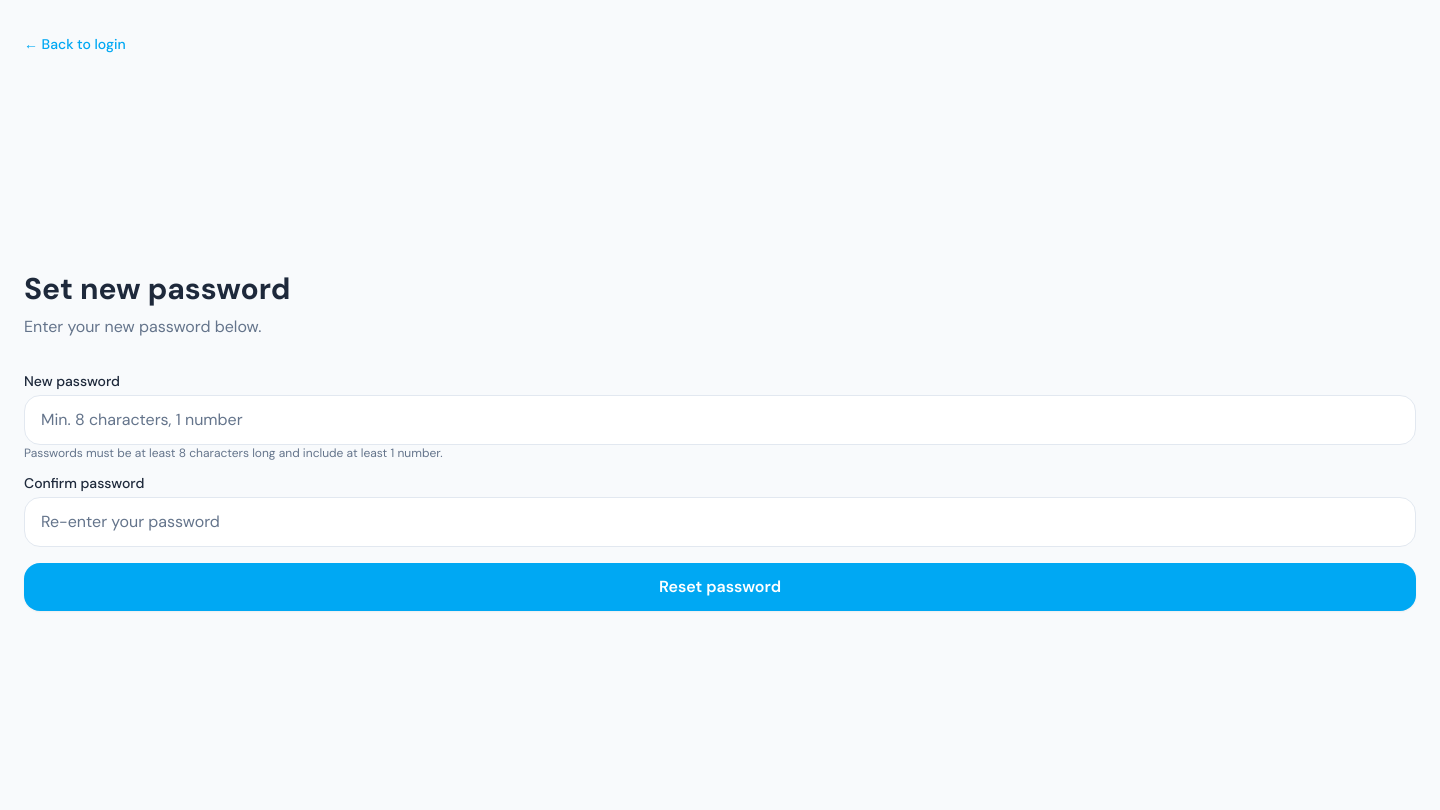
Test case: ResetPasswordPage › shows error when password has no number
Type "NoNumberPass" into the password field with test id "password-input" at (720, 420), box [24,395,1416,445]
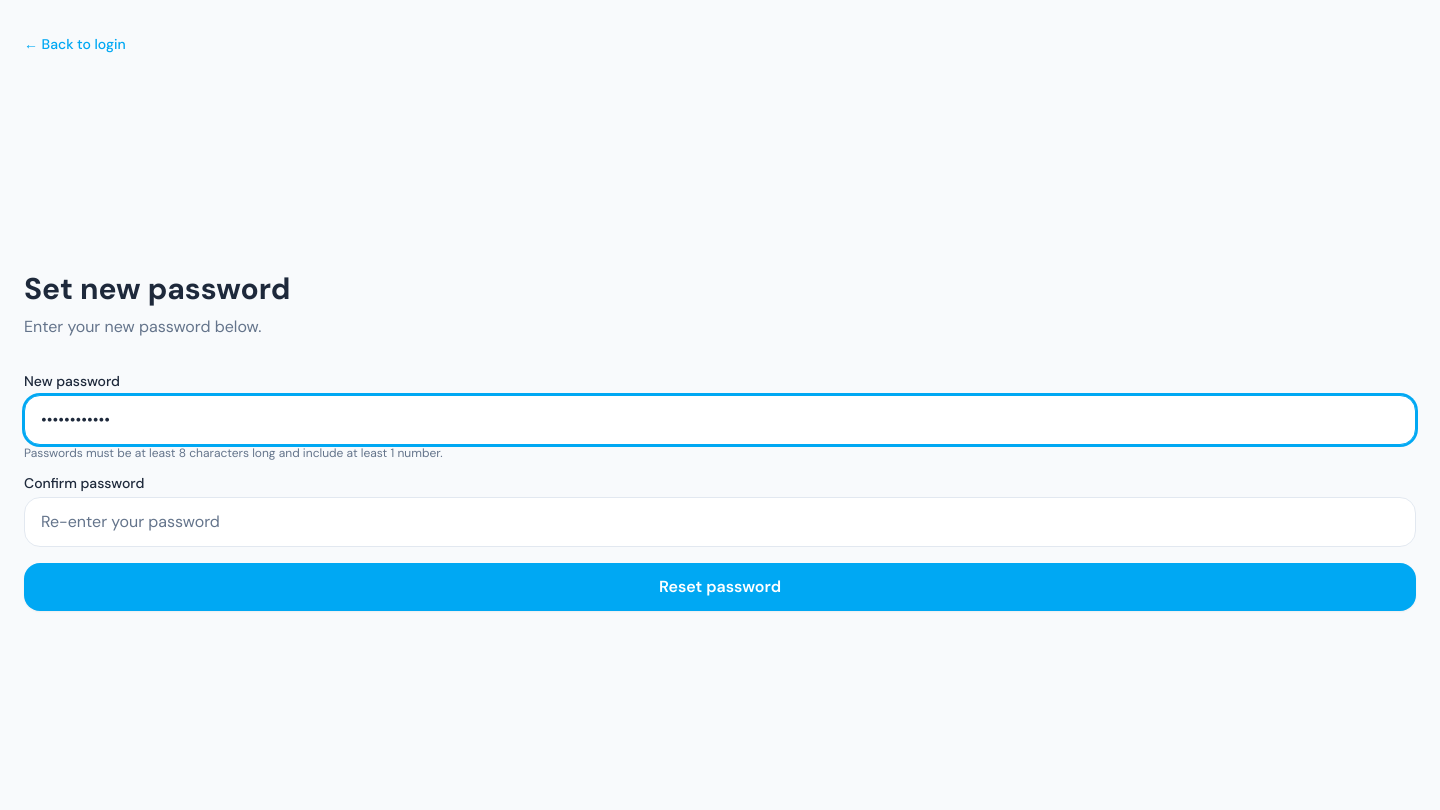
Type "NoNumberPass" into the password field with test id "confirm-password-input" at (720, 522), box [24,497,1416,547]
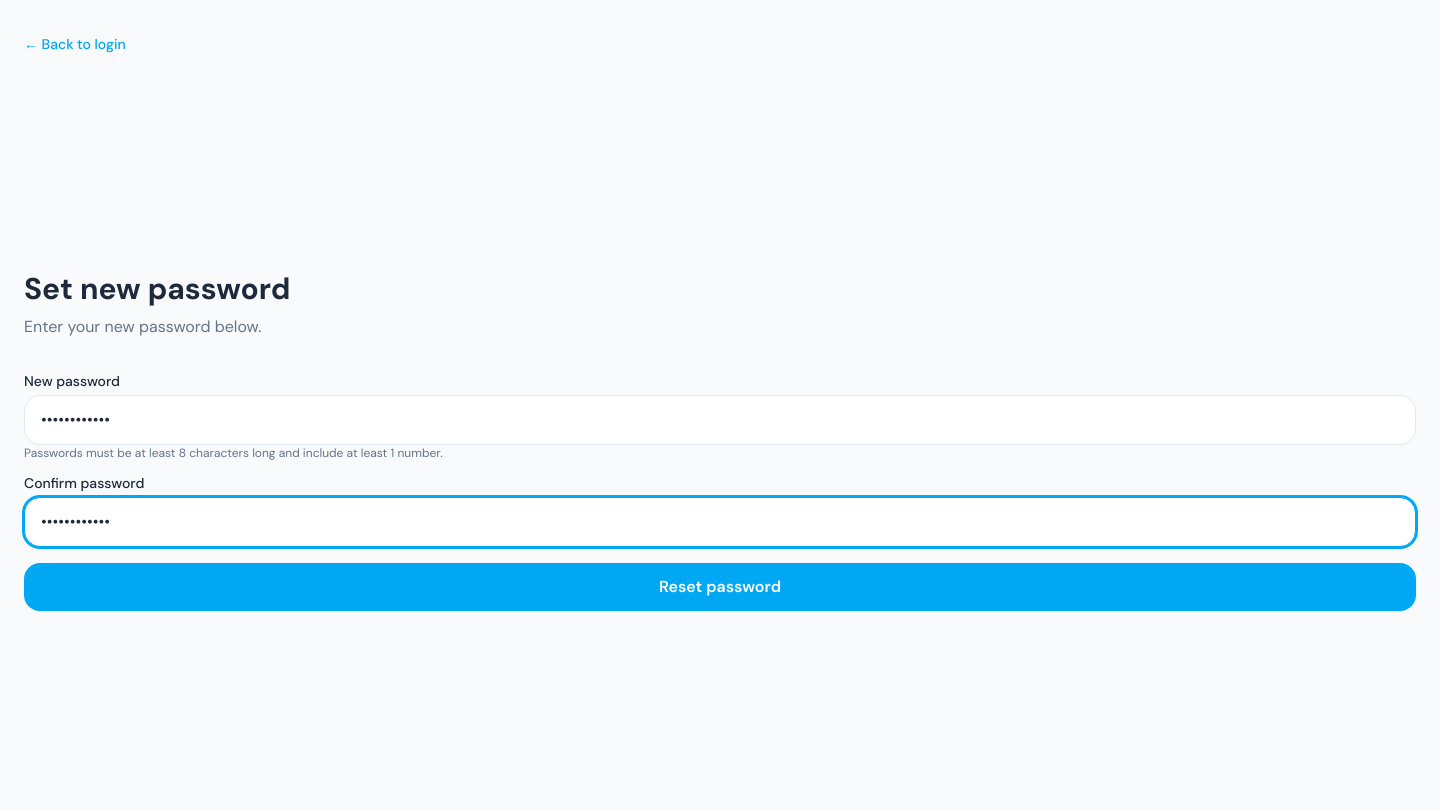
Click the button with test id "submit-button" at (720, 587), box [24,563,1416,611]
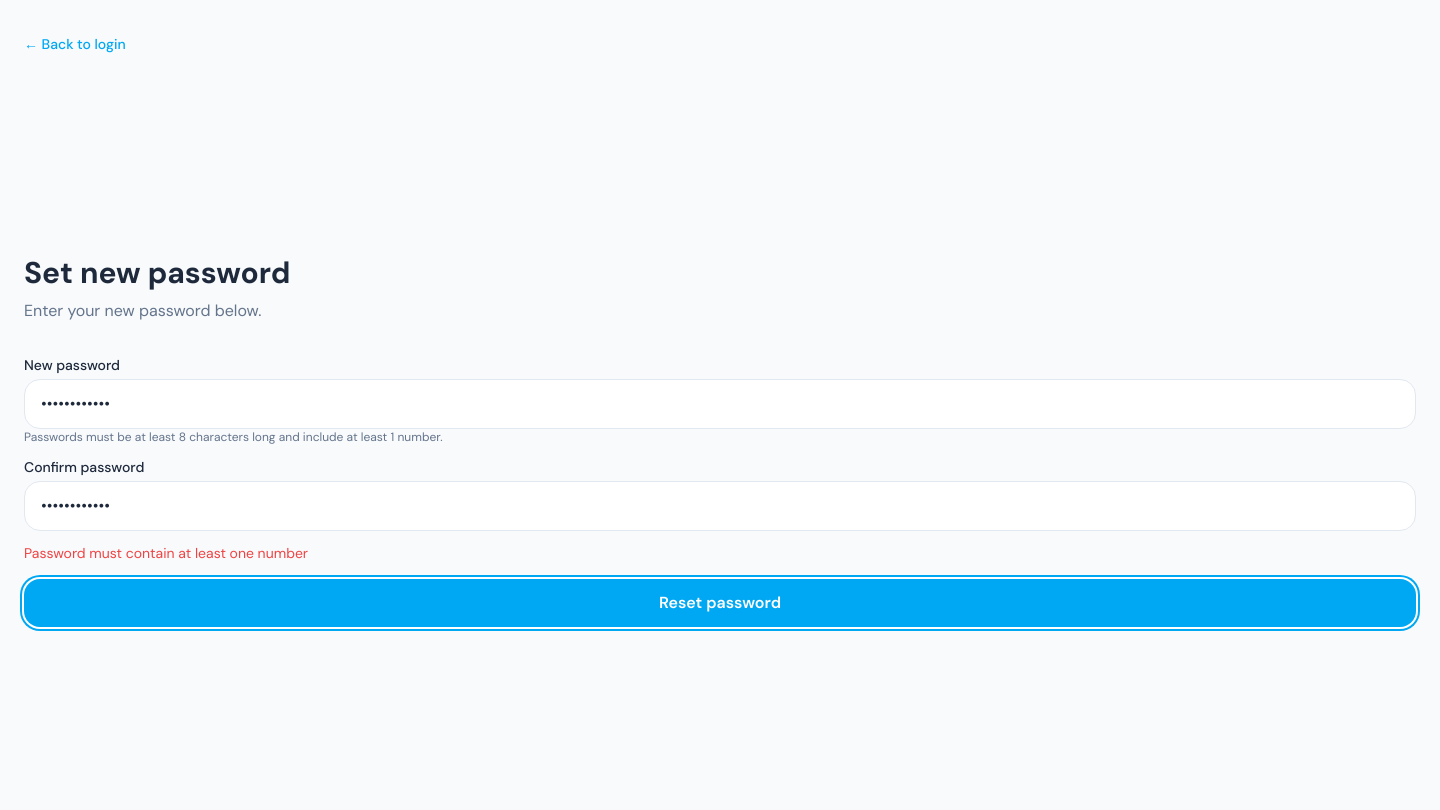
Now the message with test id "field-error" shows "at least one number", box [24,544,308,562]
